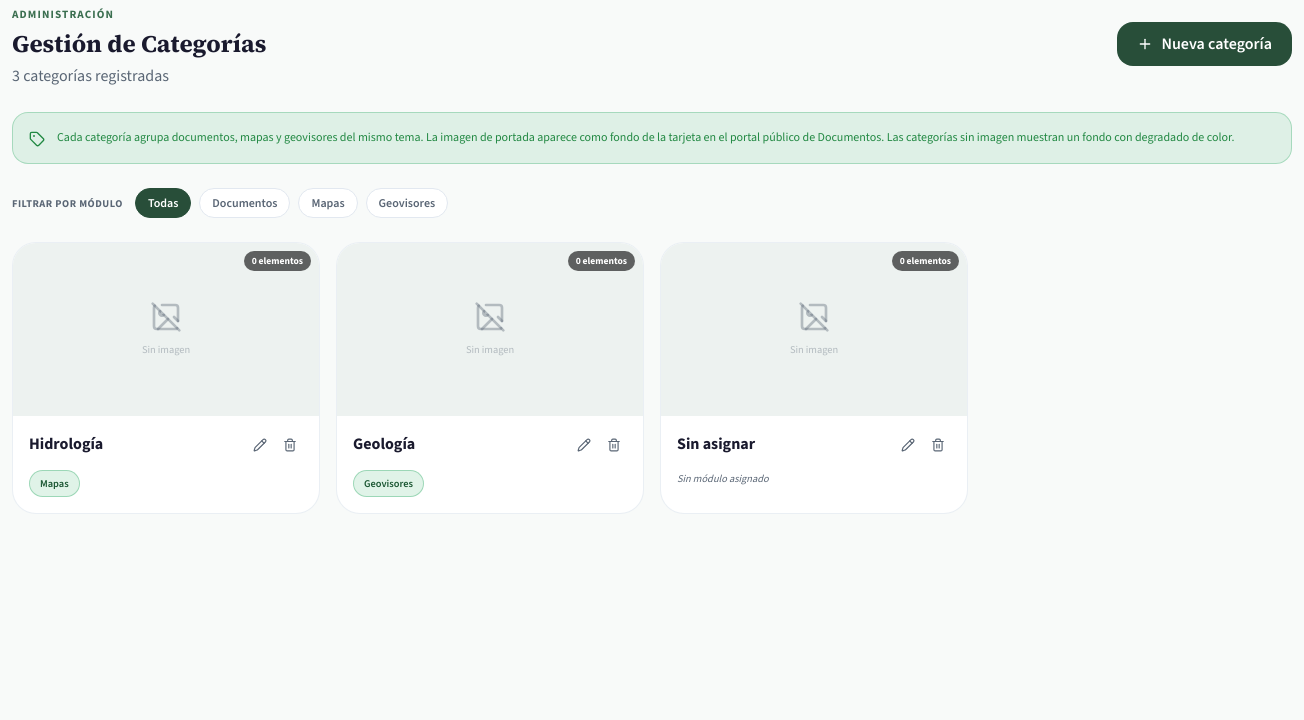
it: GestionCategorias — filtro por módulo › filtrar por Mapas solo muestra la categoría asignada a mapas
Click the button "Mapas" at (328, 203), box [298,188,358,218]
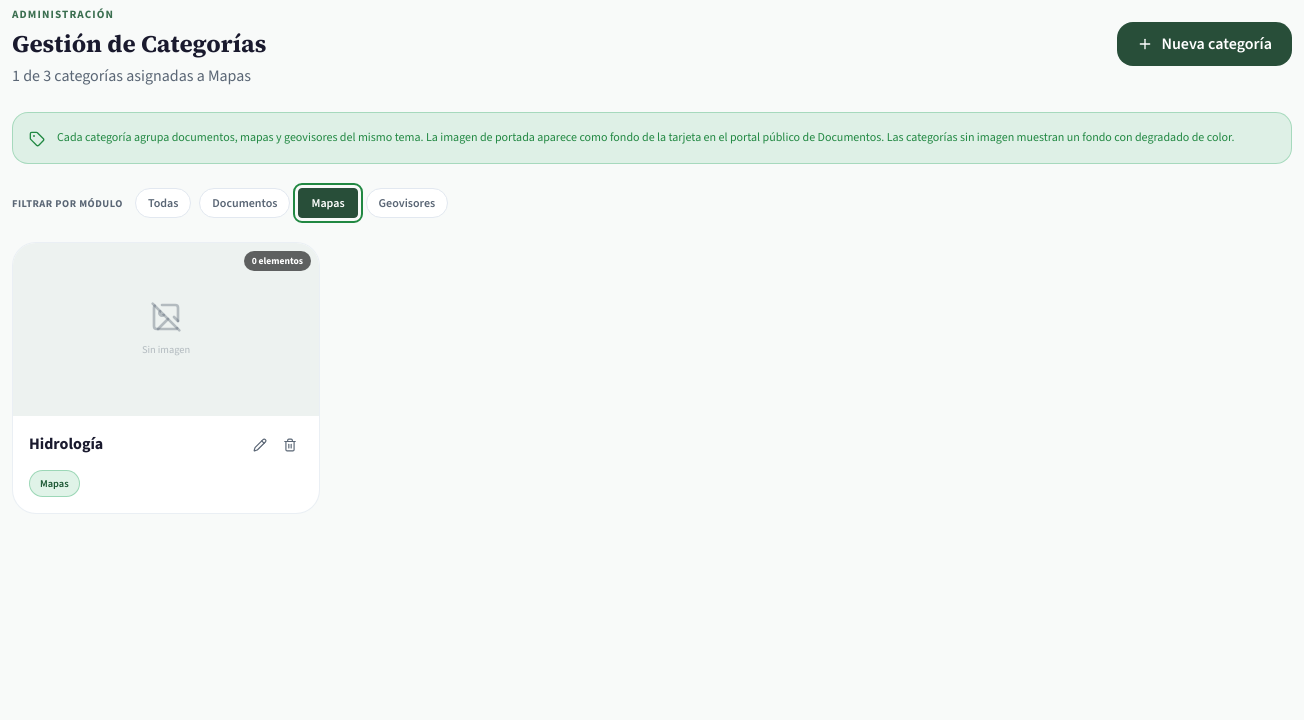
Expected: the heading "Hidrología" is shown, [29,432,103,456]
Expected: the heading "Geología" is gone
